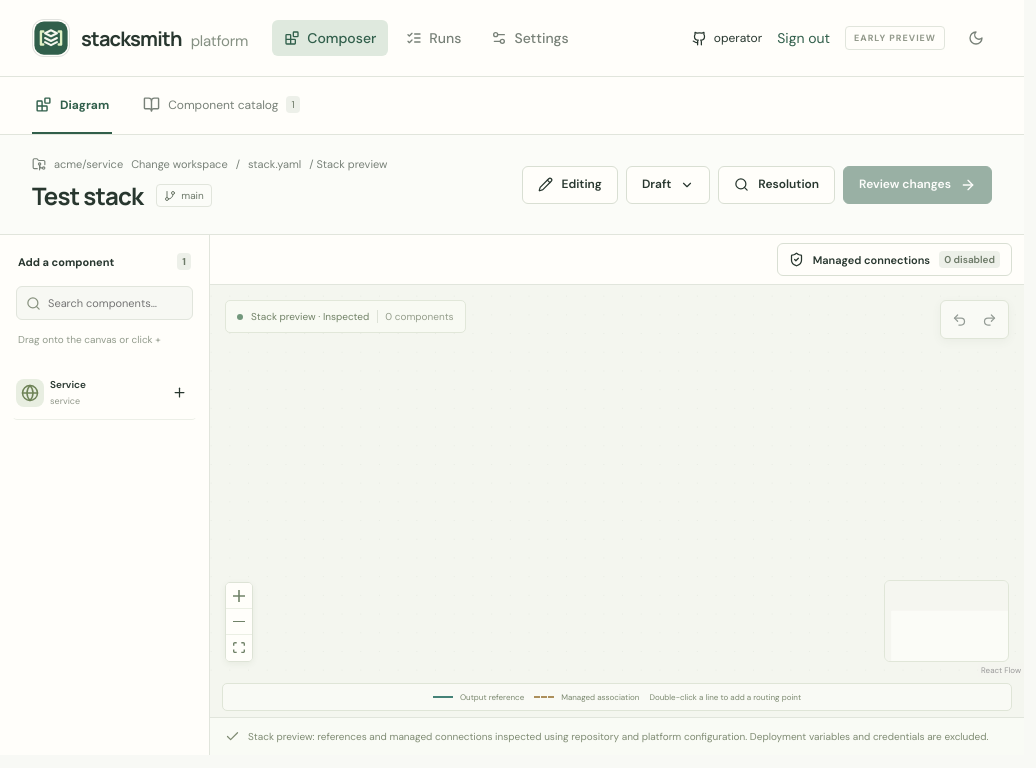
Test: preserves an explicit stack preview even when a sole deployment exists
The width and height of the screenshot is (1036, 768).
Click the link to "/settings".
click(530, 38)  # box x1=491 y1=29 x2=569 y2=47
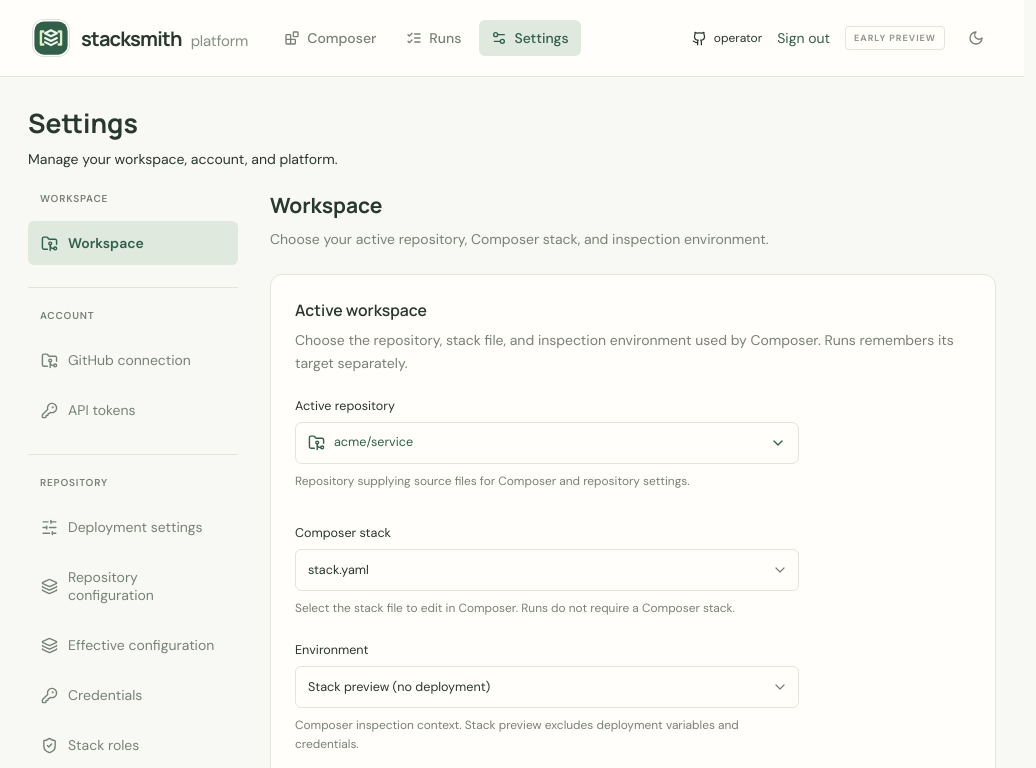
expect the dropdown labelled "Composer stack" shows "stack.yaml": met, box x1=295 y1=549 x2=799 y2=591
